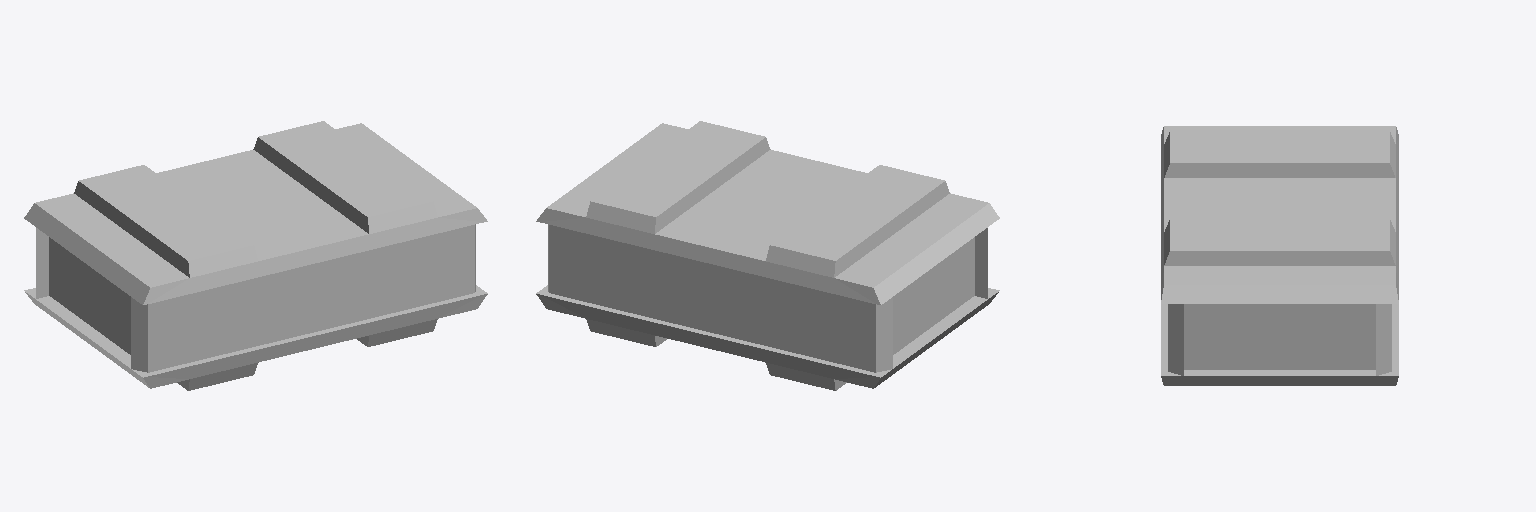
The model's file is Crate-00.obj.
3 renders of one model, left to right at view 1: azimuth 30°, elevation 25°; view 2: azimuth 150°, elevation 25°; view 3: azimuth 270°, elevation 25°, orthographic.
Parts seen in each view (by area): view 1: Crate_00; view 2: Crate_00; view 3: Crate_00.
Boxes of the visible parts, <box> form: Crate_00: <box>24,121,487,390</box>; Crate_00: <box>536,121,999,390</box>; Crate_00: <box>1161,126,1398,385</box>.
Bounding box in the file's own units: 0.375 × 0.135 × 0.2242.